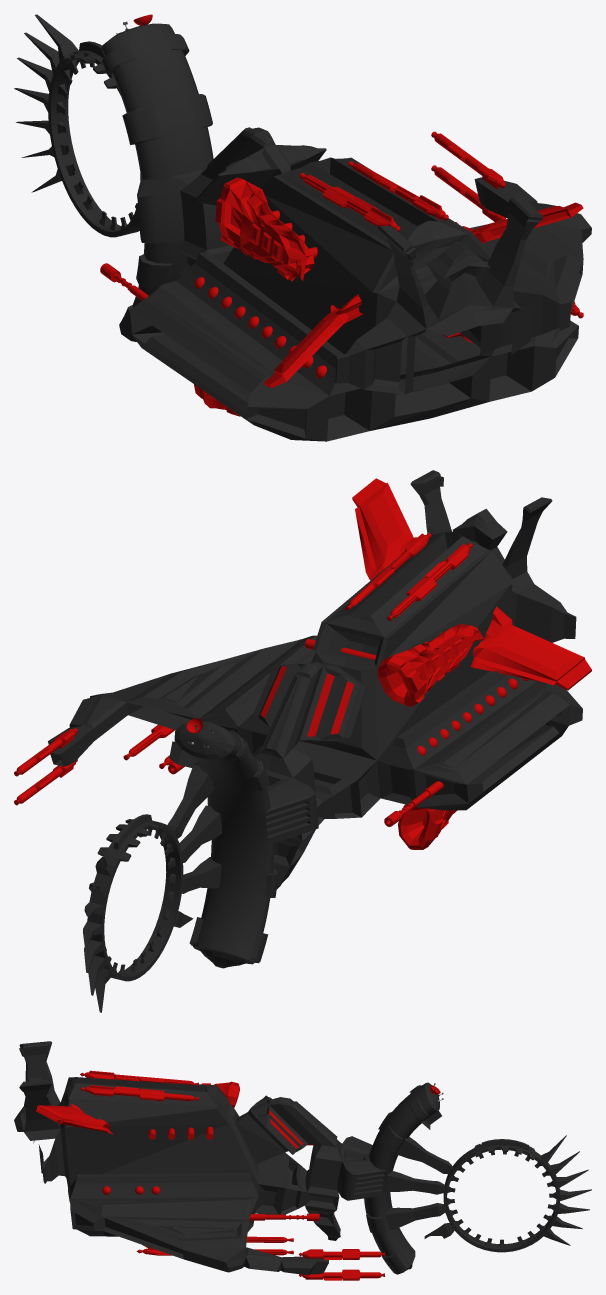
The model's file is EpaveCac.fbx.
The picture shows the model from 3 angles, top to bottom: view 1: azimuth 30°, elevation 25°; view 2: azimuth 150°, elevation 25°; view 3: azimuth 270°, elevation 25°; orthographic projection. The views are drawn at different scales.
Parts seen in each view (by area): view 1: Torus005.001; view 2: Torus005.001; view 3: Torus005.001.
Part boxes in pixels (<box>): Torus005.001: <box>14,14,591,441</box>; Torus005.001: <box>14,470,591,1012</box>; Torus005.001: <box>14,1041,591,1280</box>.
Size of the model in its own units: 2.78 by 4.96 by 1.96.
